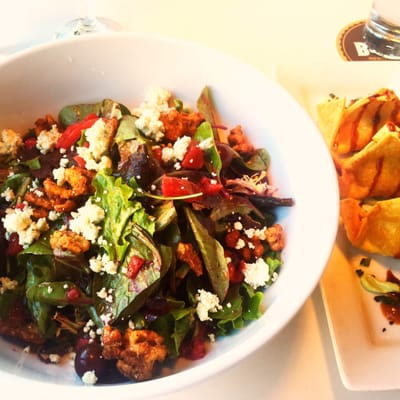curry: (90, 172, 157, 265)
sushi: (4, 32, 340, 397)
